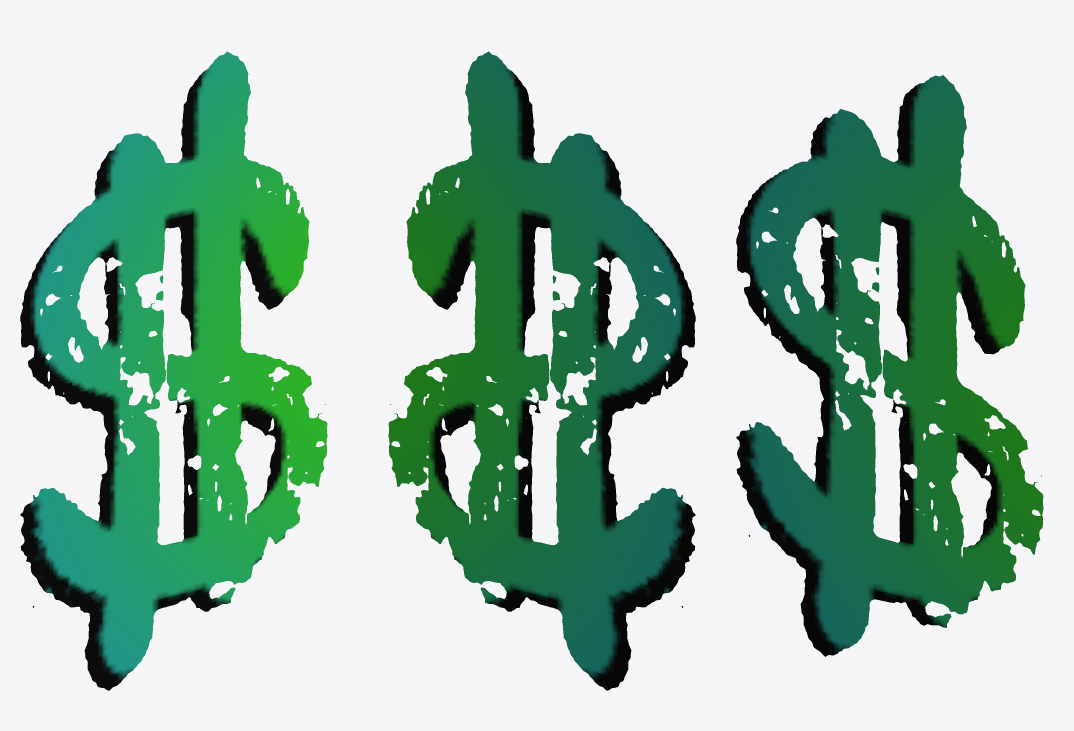
Rendered from dollar_sign_graffiti.fbx.
3 views of the same model, side by side, from view 1: azimuth 30°, elevation 25°; view 2: azimuth 150°, elevation 25°; view 3: azimuth 330°, elevation 25° (orthographic).
Visible parts, largest first — view 1: dollar_sign_graffiti; view 2: dollar_sign_graffiti; view 3: dollar_sign_graffiti.
Part boxes in pixels (x1,y1,x2,y2): dollar_sign_graffiti: (20, 51, 327, 690); dollar_sign_graffiti: (388, 51, 695, 690); dollar_sign_graffiti: (736, 75, 1043, 656).
Bounding box in the file's own units: 22.69 × 40.9 × 9.76e-06.
Materials: 1 (1 with a texture image).
